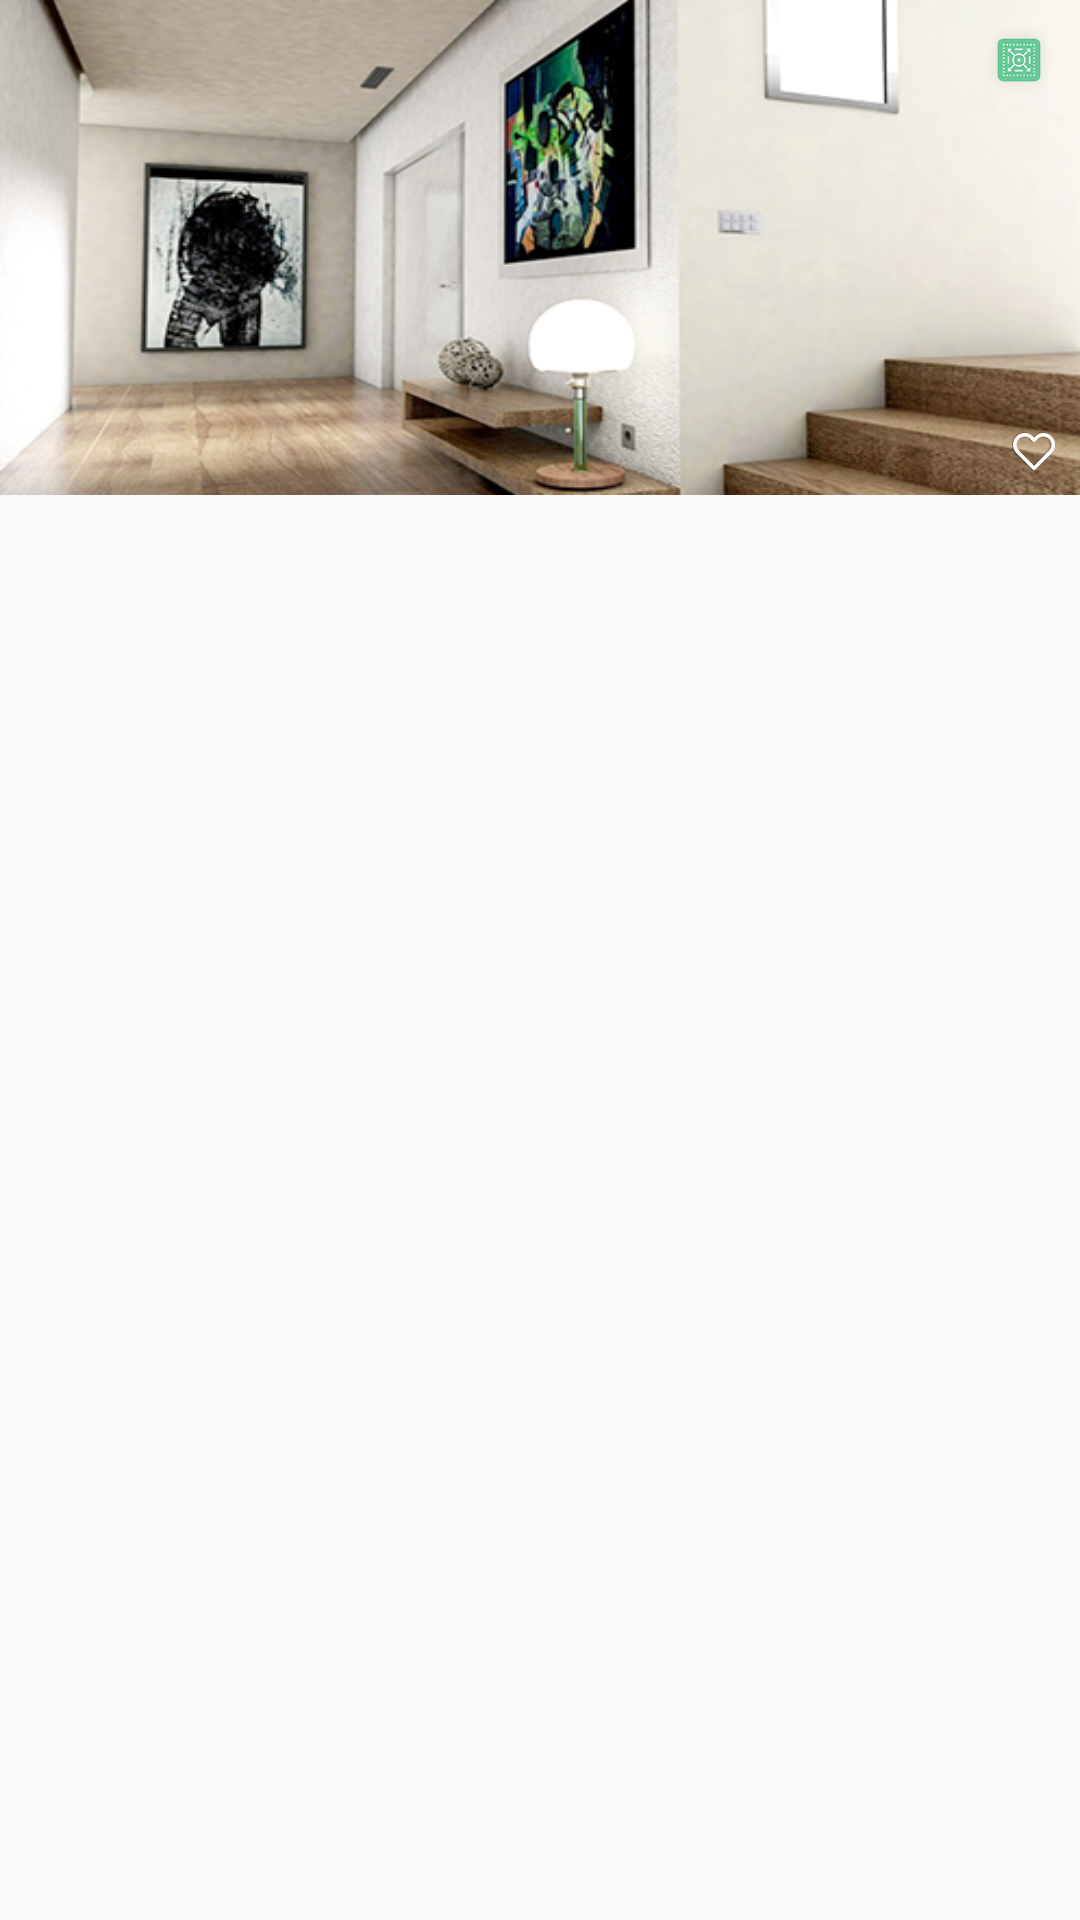

Icon click points for this 1080x1920 phone screenshot, format (x=x, y=y):
like: (x=1034, y=451)
